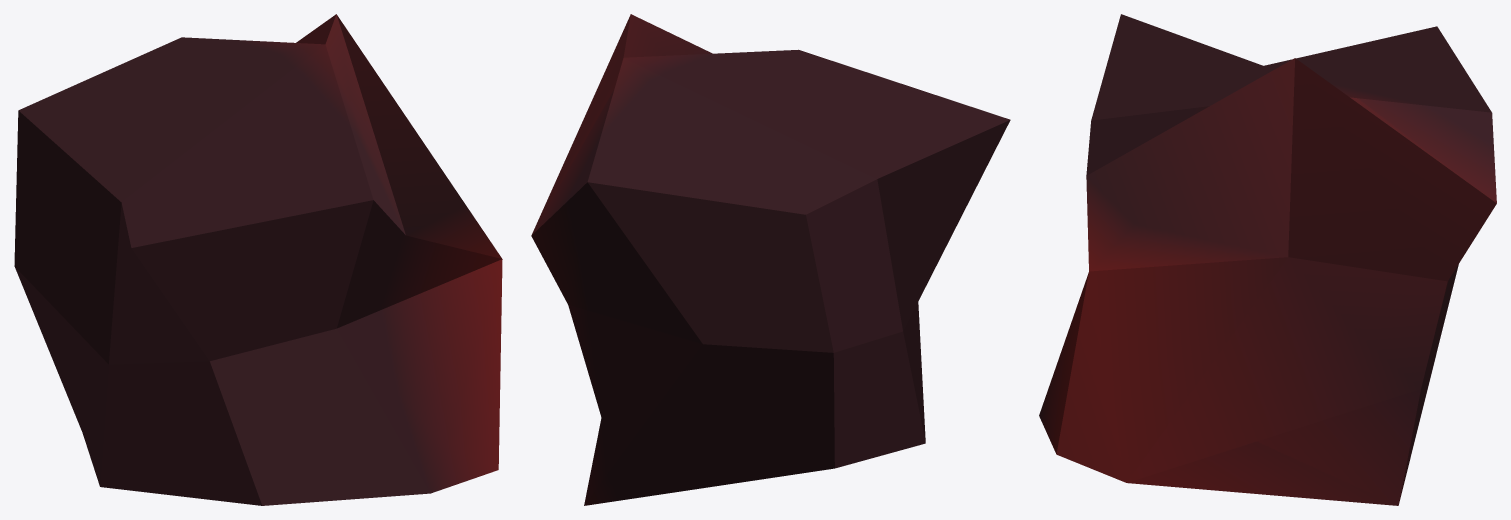
3 renders of one model, left to right at view 1: azimuth 30°, elevation 25°; view 2: azimuth 150°, elevation 25°; view 3: azimuth 270°, elevation 25°, orthographic.
Parts seen in each view (by area): view 1: node-0; view 2: node-0; view 3: node-0.
Part boxes in pixels (<box>): node-0: <box>14,14,502,505</box>; node-0: <box>531,14,1010,505</box>; node-0: <box>1039,14,1496,505</box>.
Size of the model in its own units: 2.55 by 3.11 by 2.87.
Materials: 1 (1 with a texture image).
